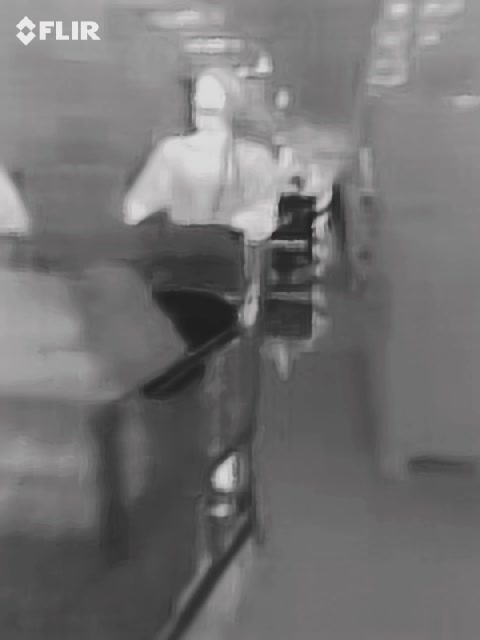head: (191, 65, 247, 133)
